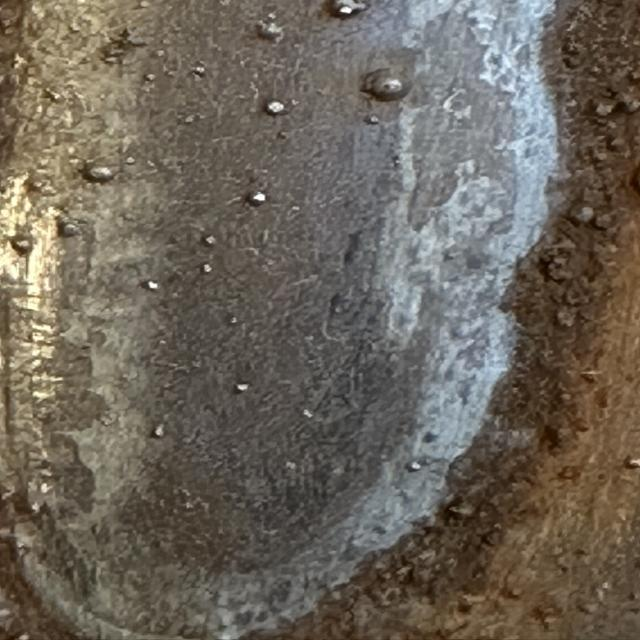Spatters: (362, 69, 412, 101), (330, 0, 367, 18), (257, 21, 283, 42), (58, 216, 82, 238), (10, 234, 32, 256), (87, 166, 115, 182), (245, 190, 268, 206), (265, 100, 285, 115), (405, 461, 422, 472), (153, 424, 165, 438), (625, 458, 640, 469), (140, 280, 158, 289), (205, 235, 217, 245), (235, 384, 248, 391), (203, 264, 212, 272)
